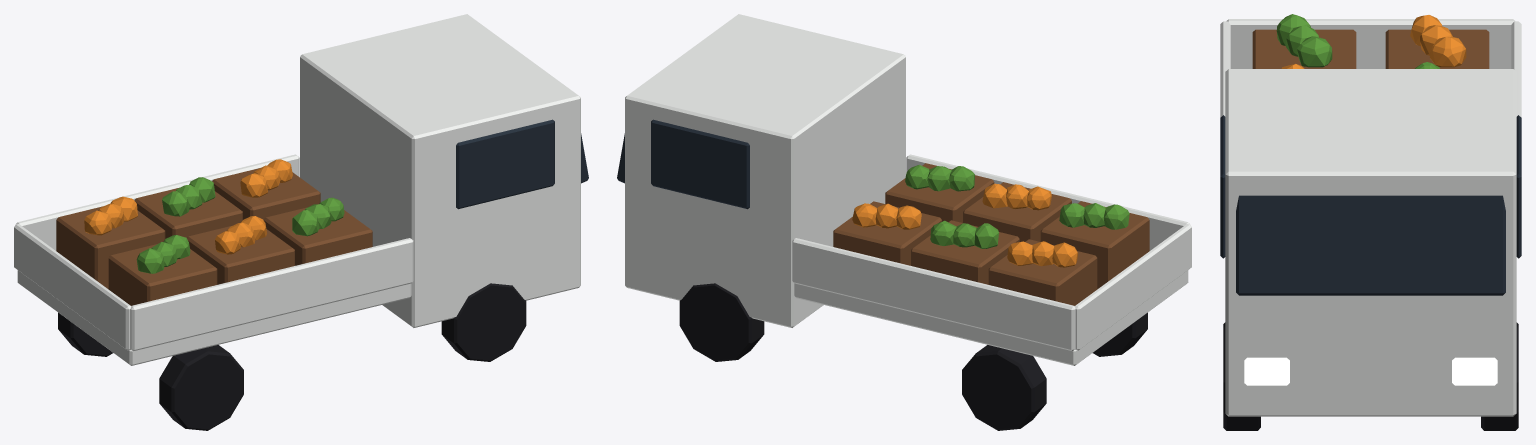
Rendered from keilastbil.glb.
The picture shows the model from 3 angles, left to right: view 1: azimuth 30°, elevation 25°; view 2: azimuth 150°, elevation 25°; view 3: azimuth 270°, elevation 25°; orthographic projection. The views are drawn at different scales.
Parts seen in each view (by area): view 1: keilastbil; view 2: keilastbil; view 3: keilastbil.
Part boxes in pixels (x1,y1,x2,y2): keilastbil: (14,14,588,430); keilastbil: (617,14,1191,430); keilastbil: (1220,14,1521,430).
Bounding box in the file's own units: 3.31 × 1.65 × 1.45.
